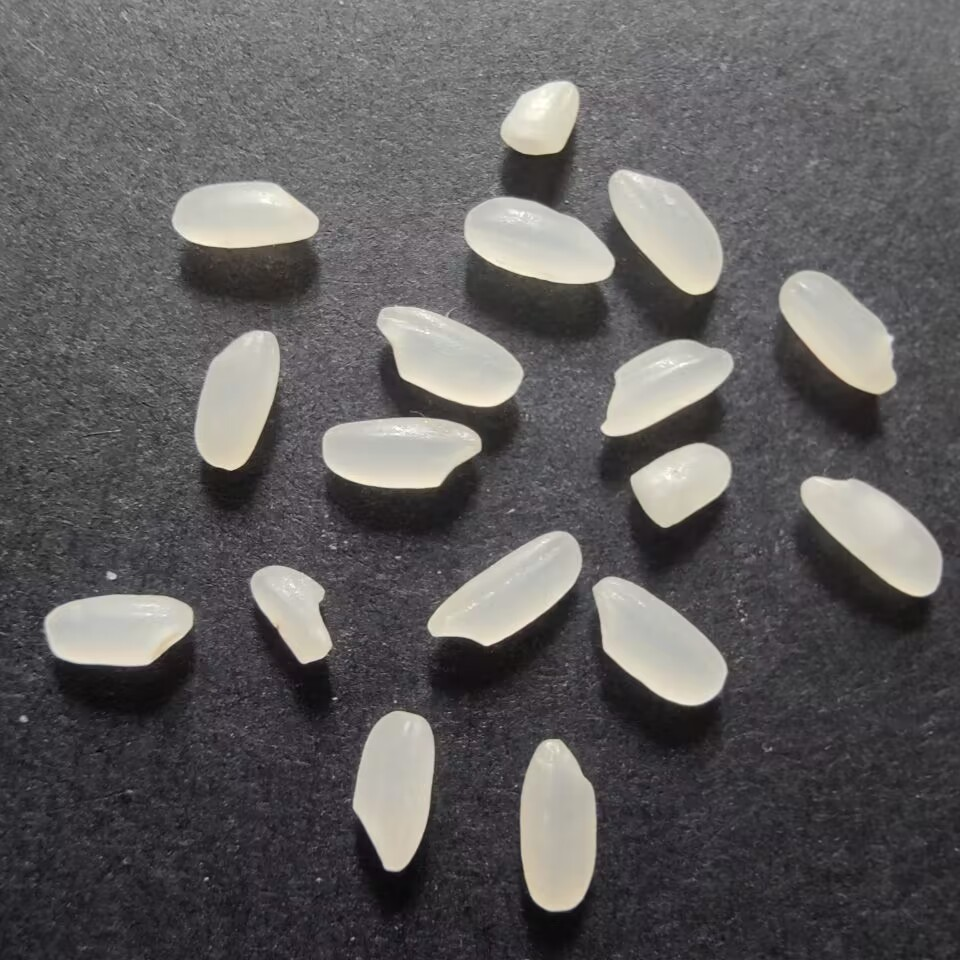broken: (241, 561, 345, 673), (622, 436, 732, 533), (491, 74, 588, 161)
rice: (588, 573, 739, 711), (797, 470, 948, 601), (422, 528, 586, 648), (369, 301, 532, 410), (776, 264, 904, 402), (508, 734, 604, 916), (345, 703, 442, 882), (605, 166, 729, 296), (458, 194, 618, 289), (190, 323, 284, 476), (601, 337, 739, 439), (37, 587, 199, 673), (318, 415, 487, 490), (166, 175, 328, 252)
